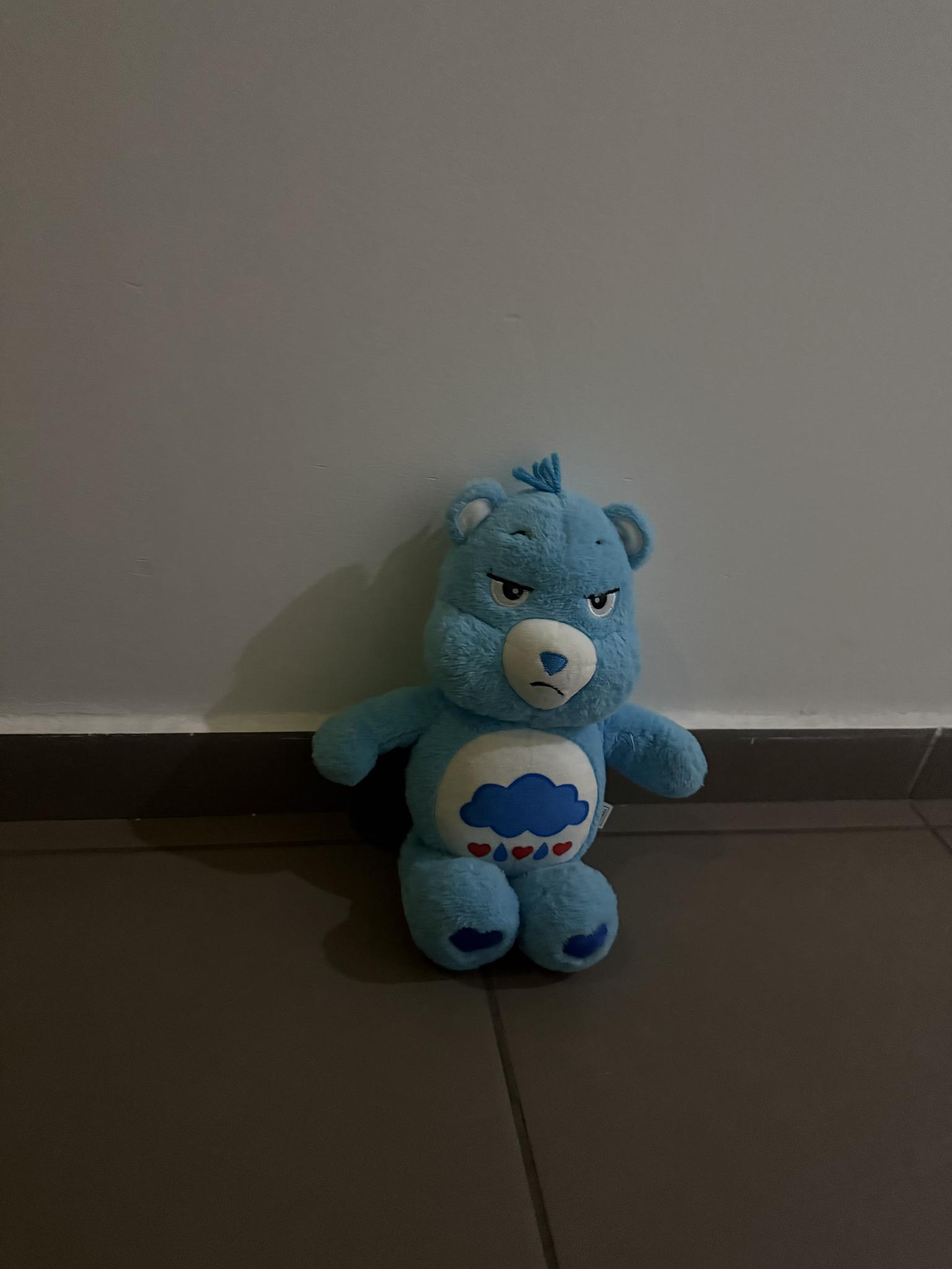peluche_Juan Jose: (298, 462, 724, 980)
